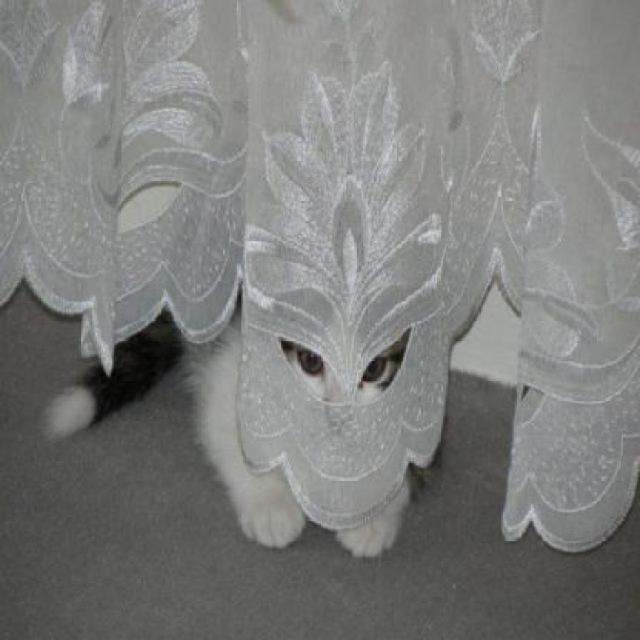cat: (284, 329, 413, 408)
